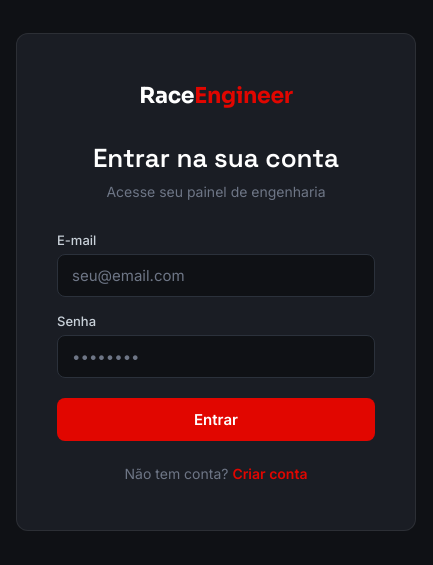
Test: LoginPage › error handling › clears a previous error when switching mode
Type "wrong@example.com" into the field labelled "E-mail".
click(216, 276); type("wrong@example.com")  # box 57,254 -> 375,297
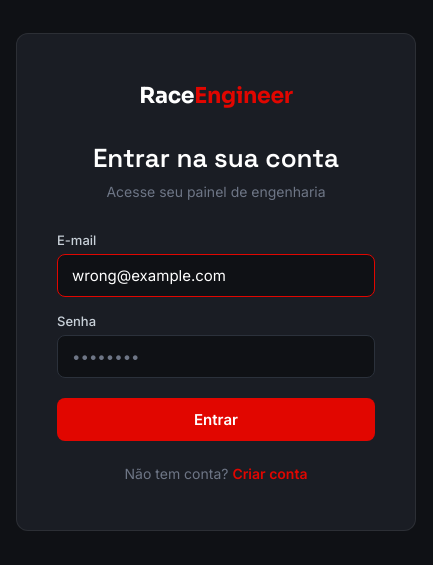
Type "wrongpass" into the password field labelled "Senha".
click(216, 356); type("wrongpass")  # box 57,335 -> 375,378
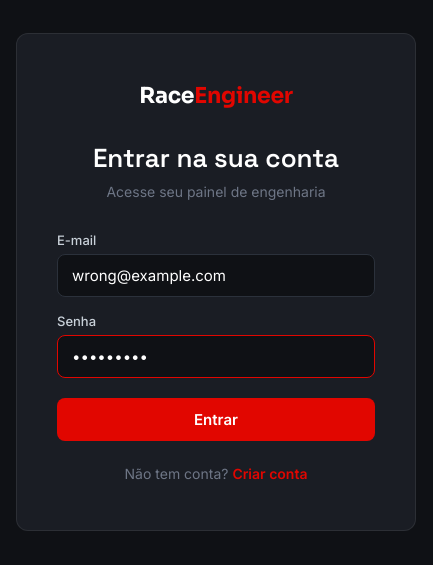
Click the button "Entrar".
click(216, 420)  # box 57,398 -> 375,441
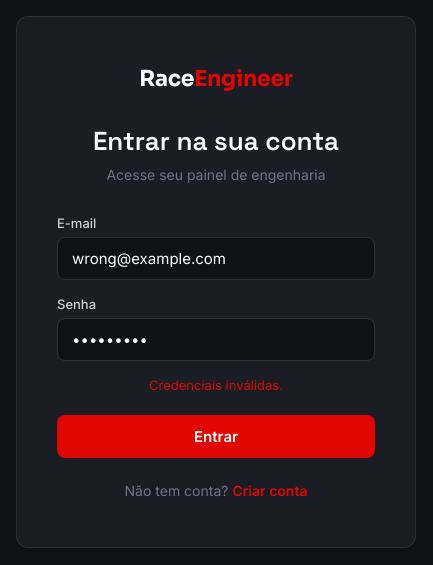
Expected: the message "Credenciais inválidas." is shown, 149,377 -> 283,393
Click the button "Criar conta".
click(270, 490)  # box 232,482 -> 307,499
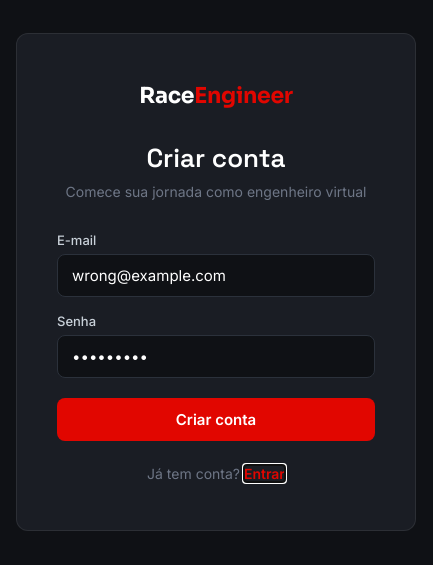
Expected: the message "Credenciais inválidas." is gone
